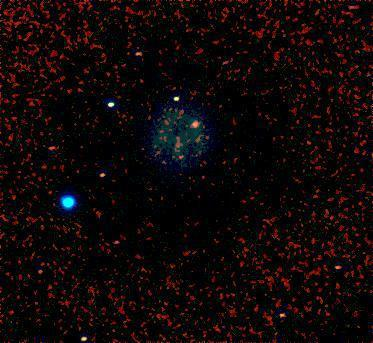star: (40, 131, 70, 161)
